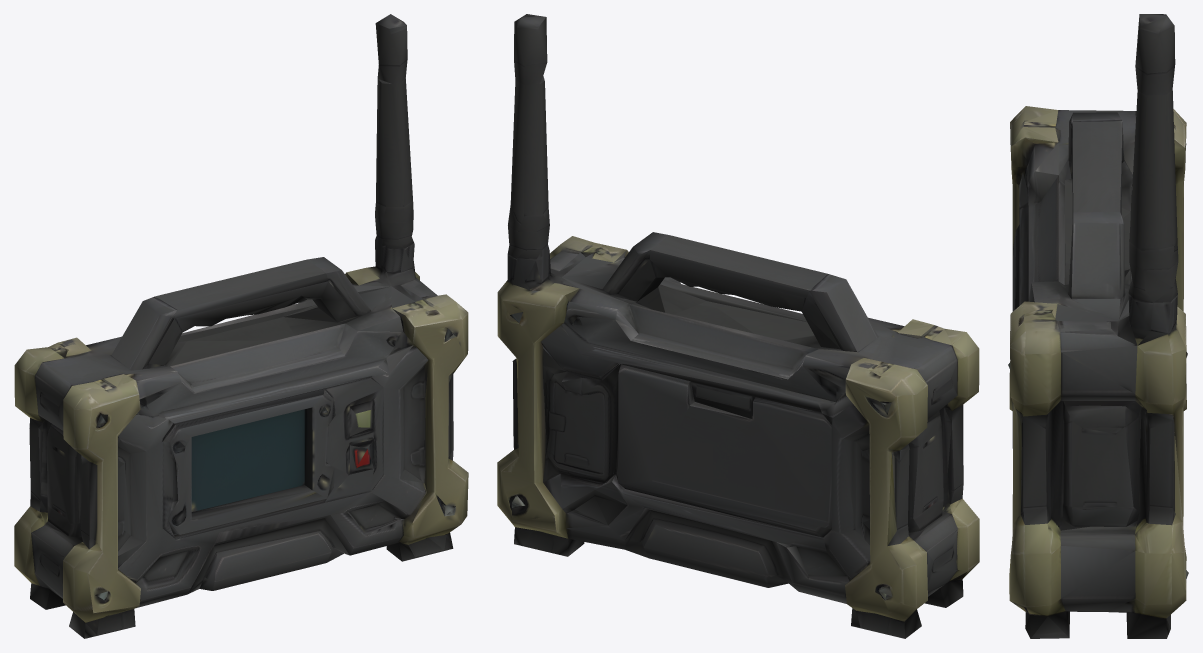
Rendered from Asset_02_LOD2.fbx.
The picture shows the model from 3 angles, left to right: view 1: azimuth 30°, elevation 25°; view 2: azimuth 150°, elevation 25°; view 3: azimuth 270°, elevation 25°; orthographic projection. The views are drawn at different scales.
Visible parts, largest first — view 1: Asset_02_LOD2; view 2: Asset_02_LOD2; view 3: Asset_02_LOD2.
Boxes of the visible parts, x1,y1,x2,y2 form: Asset_02_LOD2: (14,14,468,638); Asset_02_LOD2: (497,14,979,638); Asset_02_LOD2: (1008,14,1188,638).
Bounding box in the file's own units: 0.3485 × 0.4203 × 0.1112.
Materials: 1 (1 with a texture image).
